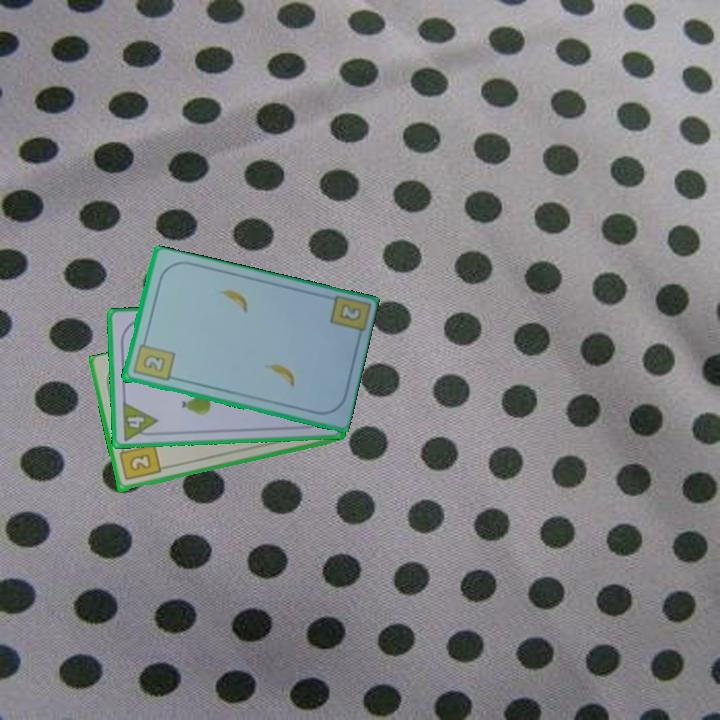2b: (129, 336, 177, 384), (116, 441, 163, 484), (335, 300, 362, 324)
4p: (119, 399, 160, 443)
